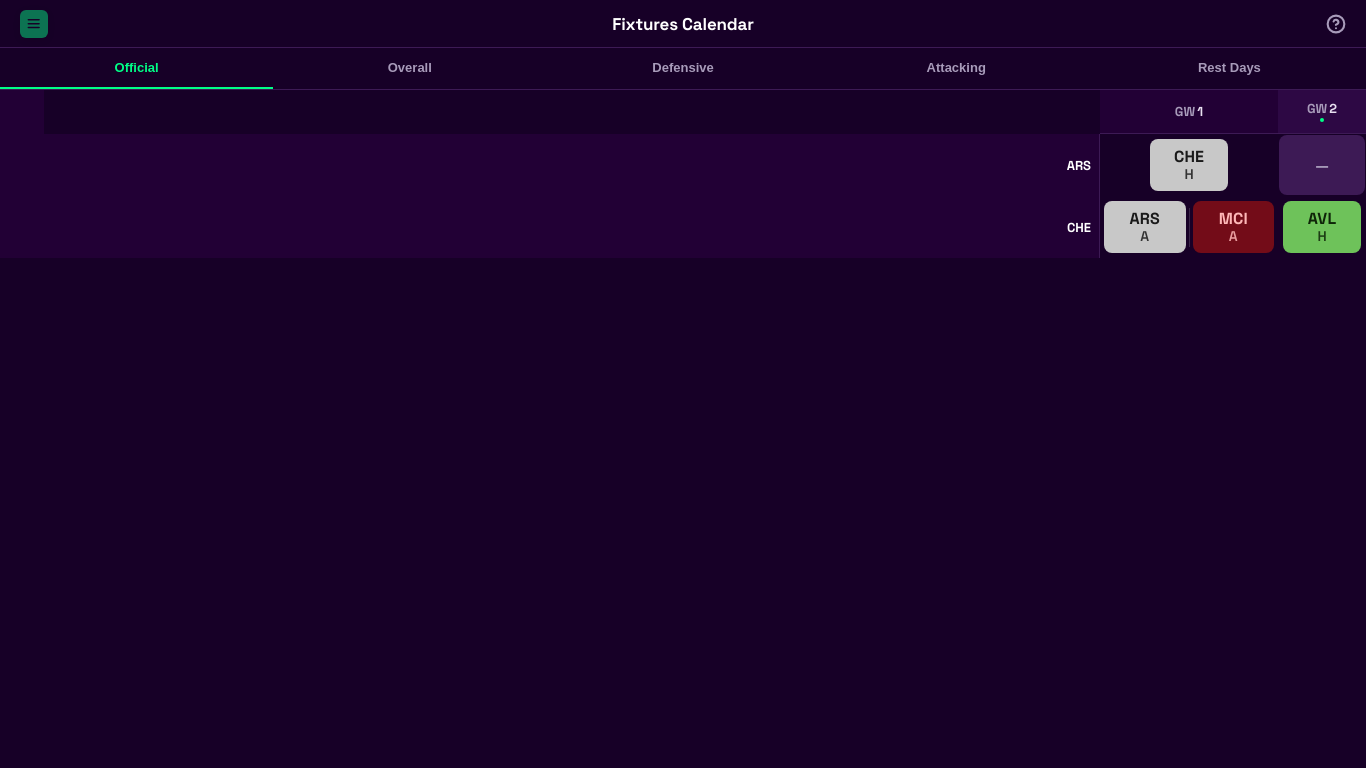
Test: FixturesCalendarScreen › closes help bottom sheet via backdrop
Click the button named "Open help" at (1336,24), box [1326, 14, 1346, 34]
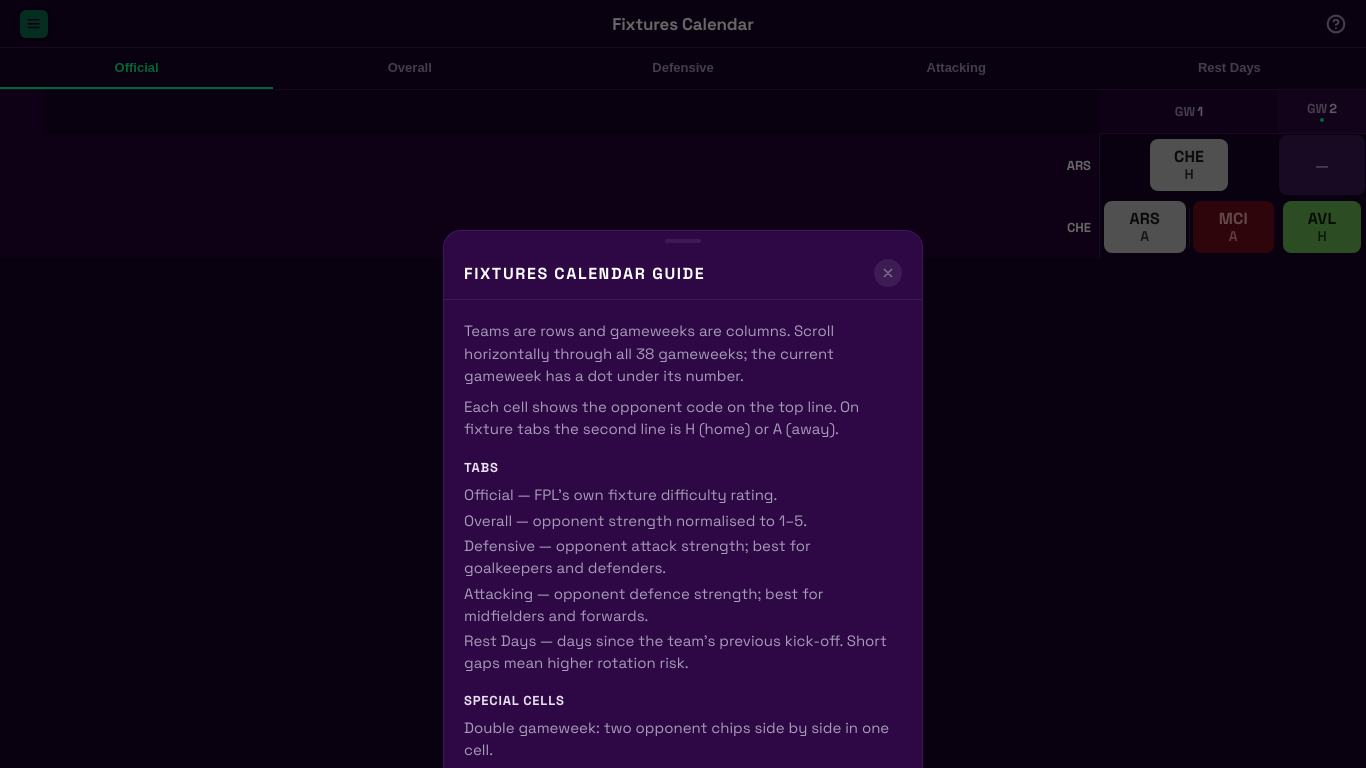
Click the element with test id "bottom-sheet-backdrop" at (82,384), box [0, 0, 1365, 767]
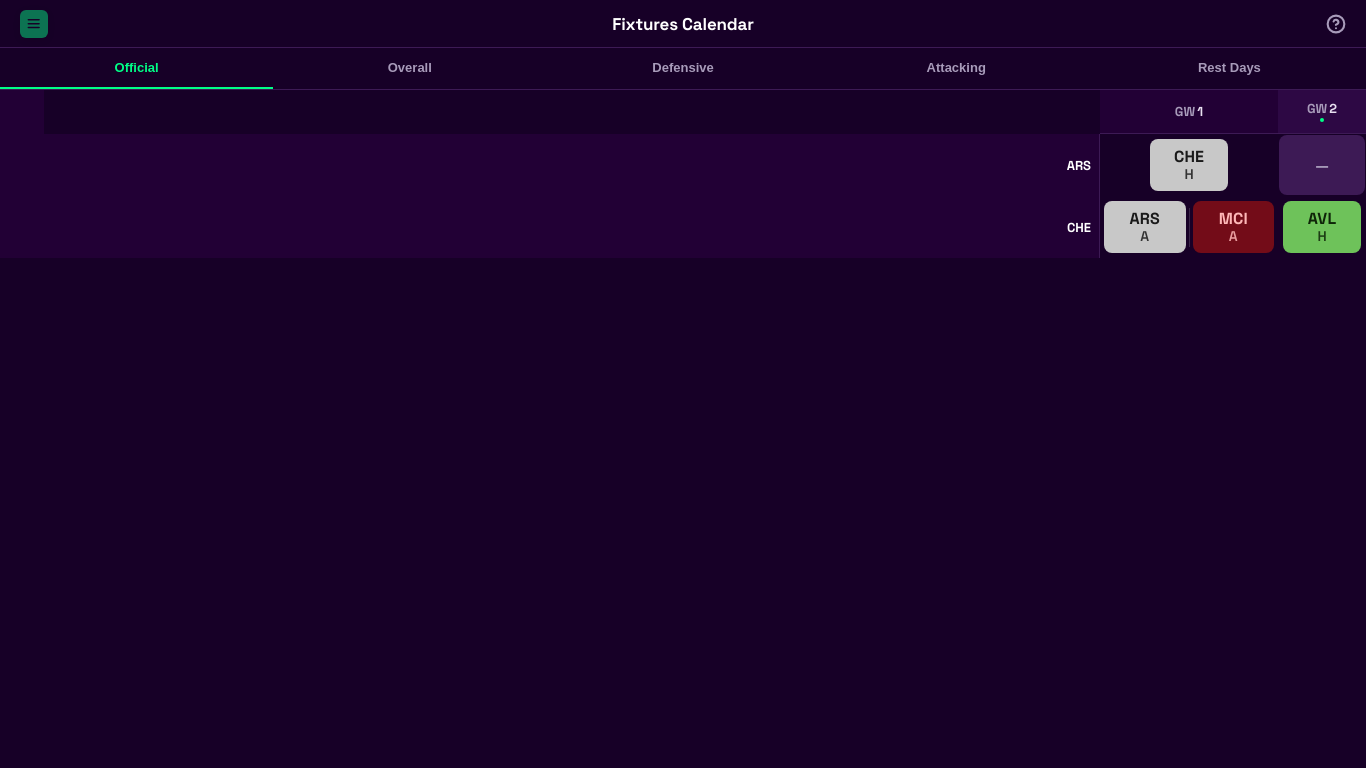
expect the heading "Fixtures calendar guide" is gone: met
